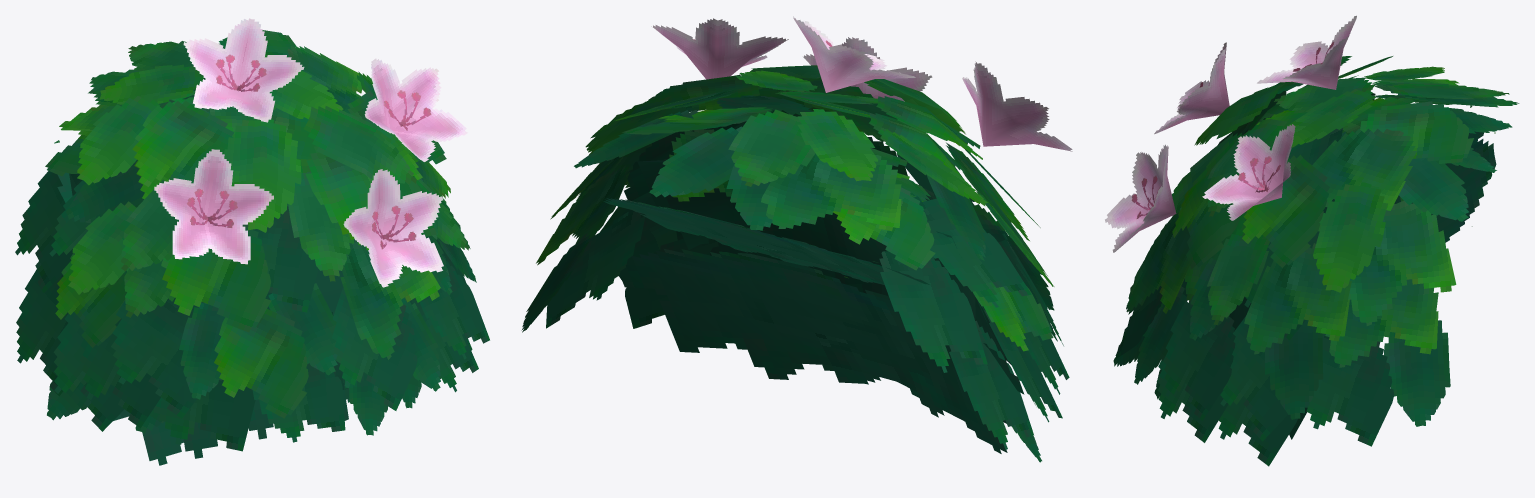
Rendered from bush-white-azalea.glb.
The picture shows the model from 3 angles, left to right: view 1: azimuth 30°, elevation 25°; view 2: azimuth 150°, elevation 25°; view 3: azimuth 270°, elevation 25°; orthographic projection. The views are drawn at different scales.
Bounding box in the file's own units: 10.65 × 9.54 × 9.23.
Materials: 2 (2 with a texture image).
